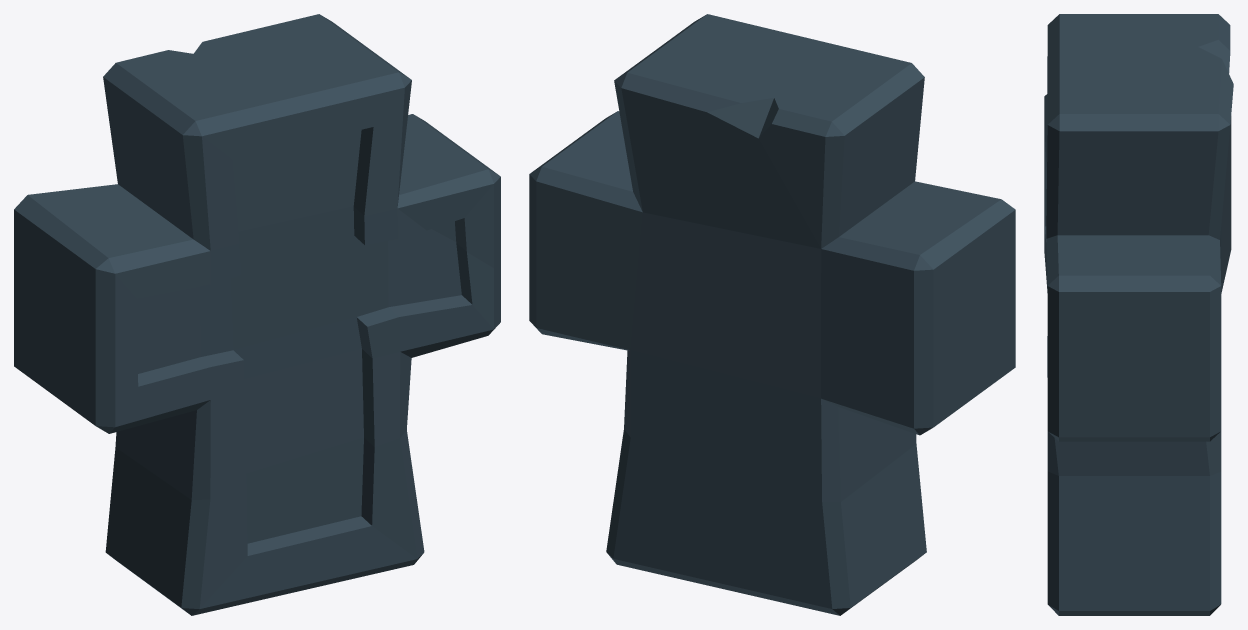
Rendered from Grave_4.fbx.
3 views of the same model, side by side, from view 1: azimuth 30°, elevation 25°; view 2: azimuth 150°, elevation 25°; view 3: azimuth 270°, elevation 25° (orthographic).
Parts seen in each view (by area): view 1: Grave 4; view 2: Grave 4; view 3: Grave 4.
Part boxes in pixels (x1=…): Grave 4: x1=14, y1=14, x2=500, y2=615; Grave 4: x1=529, y1=14, x2=1015, y2=615; Grave 4: x1=1044, y1=14, x2=1233, y2=615.
Size of the model in its own units: 117 by 137 by 47.52.
